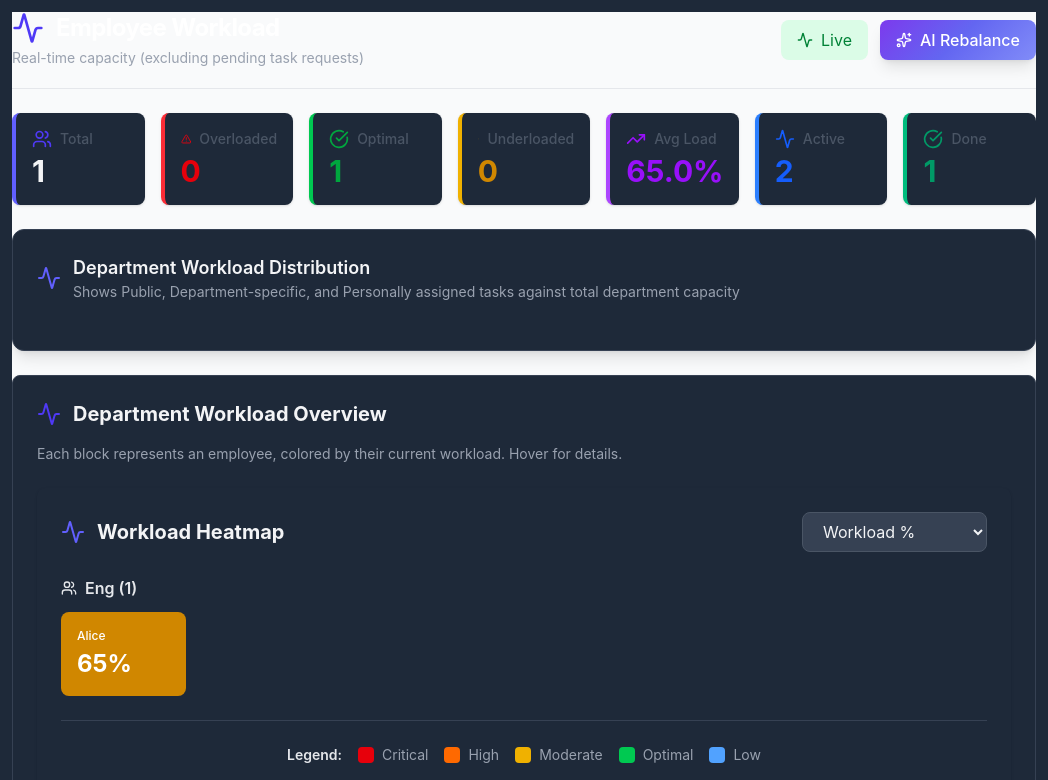
Test: WorkloadPage dedicated › handles auto-refresh toggle
What coordinates should you click on to do the following:
click the button "Live"
I would click on:
 (824, 40)
Its box is [781, 20, 868, 60].
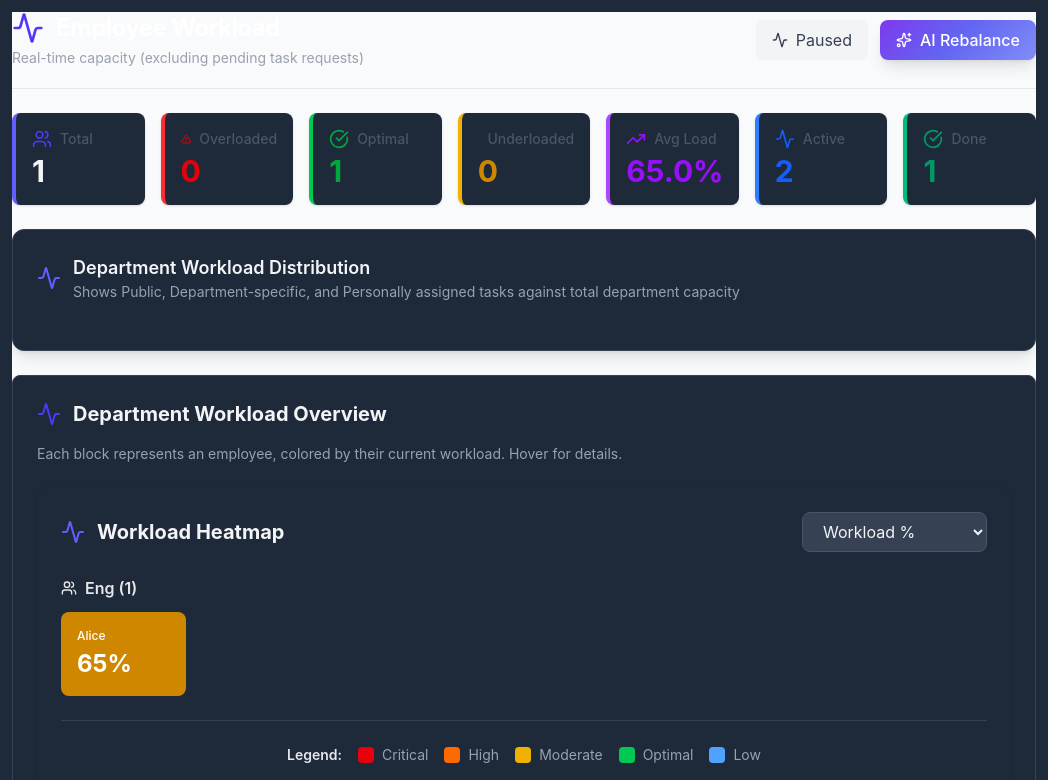
expect the button "Paused" is shown: met, box [756, 20, 868, 60]
